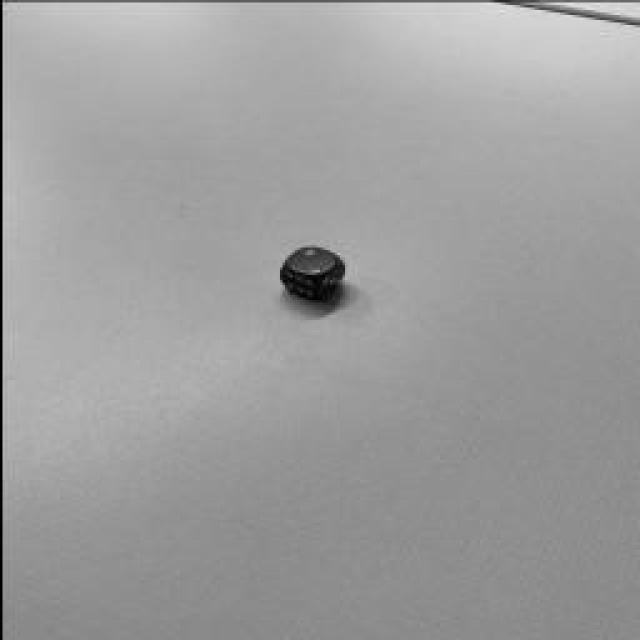dice_2: (285, 246, 333, 274)
